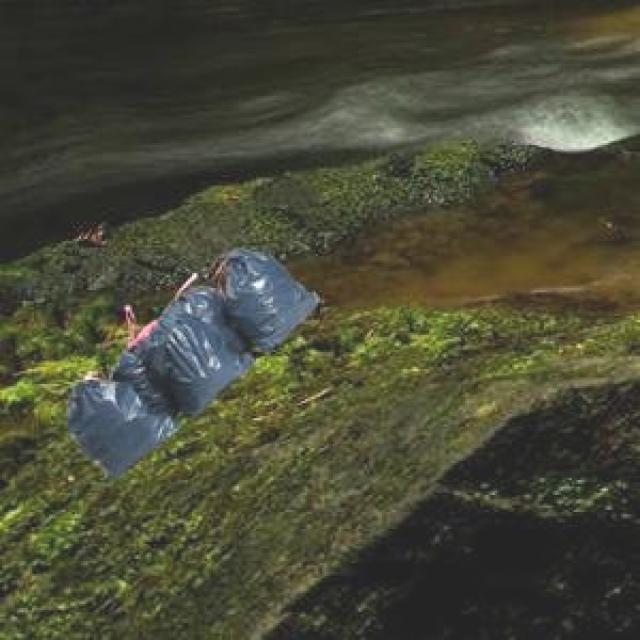Trashbag: (210, 247, 314, 351), (146, 320, 238, 416), (69, 380, 151, 477)
